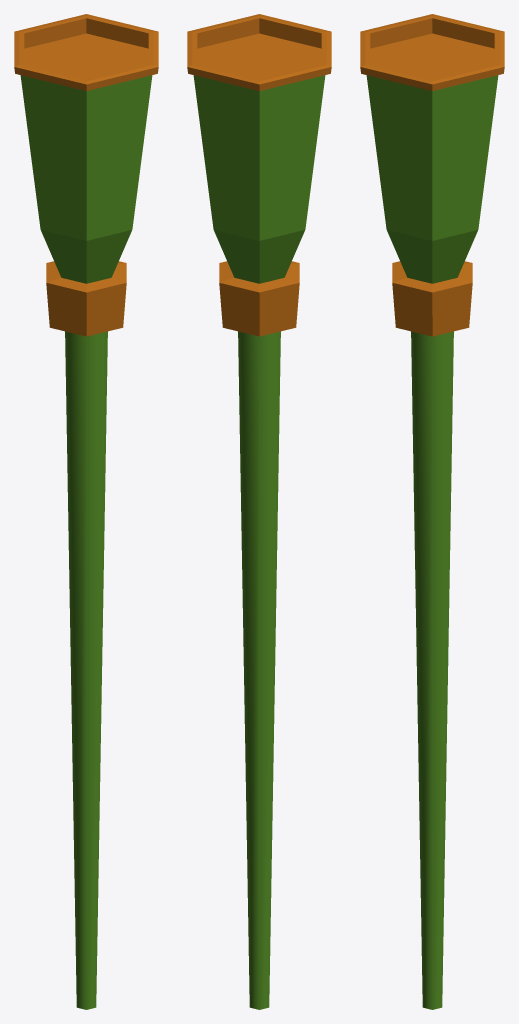
The model's file is TikiTorch.FBX.
3 renders of one model, left to right at view 1: azimuth 30°, elevation 25°; view 2: azimuth 150°, elevation 25°; view 3: azimuth 270°, elevation 25°, orthographic.
Parts seen in each view (by area): view 1: Cylinder004; view 2: Cylinder004; view 3: Cylinder004.
Part boxes in pixels (x1,y1,x2,y2): Cylinder004: [14, 14, 158, 1009]; Cylinder004: [187, 14, 331, 1009]; Cylinder004: [360, 14, 504, 1009].
Size of the model in its own units: 32.99 by 209 by 28.57.
